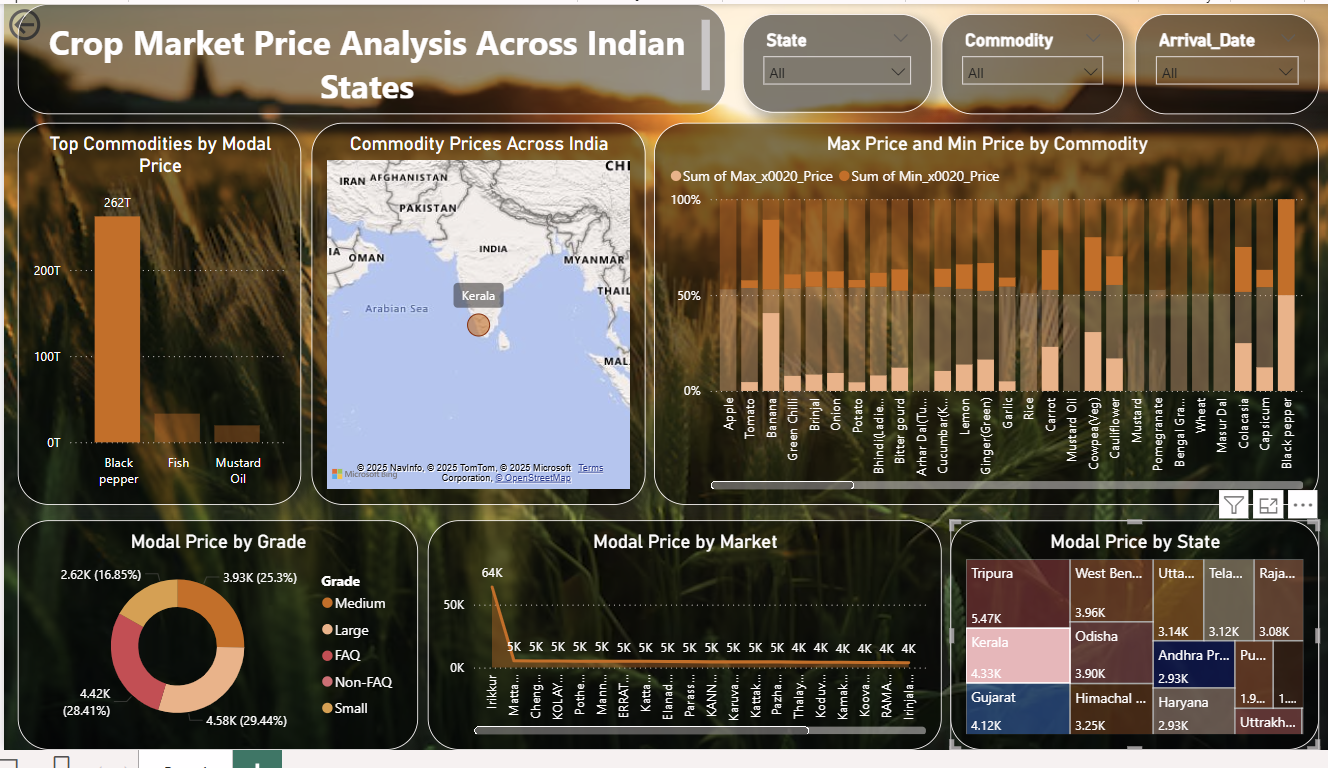

Layout of this report page (visuals, bound fields, positions):
{"tool":"powerbi","page":{"name":"Page 1","canvas":[1280,720],"ordinal":0},"visuals":[{"type":"columnChart","title":"Top Commodities by Modal Price","fields":{"Category":["Market Price.Commodity"],"Y":["Market Price.Total Modal Price"]},"box":[13.3,114.6,273.9,369.2],"z":0},{"type":"map","title":"Commodity Prices Across India","fields":{"Category":["Market Price.State"],"Size":["CountNonNull(Market Price.Modal_x0020_Price)"]},"box":[296.8,114.6,322.1,369.2],"z":1000},{"type":"hundredPercentStackedColumnChart","title":" Max Price and Min Price by Commodity","fields":{"Category":["Market Price.Commodity"],"Y":["Sum(Market Price.Max_x0020_Price)","Sum(Market Price.Min_x0020_Price)"]},"box":[627.3,114.6,641.8,369.2],"z":2000},{"type":"donutChart","title":"Modal Price by Grade","fields":{"Category":["Market Price.Grade"],"Y":["Market Price.Average Modal Price"]},"box":[13.3,498.3,386.1,222],"z":3000},{"type":"actionButton","box":[0,0,100,40],"z":4000},{"type":"lineChart","title":"Modal Price by Market ","fields":{"Category":["Market Price.Market"],"Y":["Market Price.Average Modal Price"]},"box":[409,498.3,495.8,222],"z":5000},{"type":"textbox","box":[13.3,0,682.8,106.2],"z":6000},{"type":"slicer","fields":{"Values":["Market Price.State"]},"box":[713,9.7,182.2,95.3],"z":7000},{"type":"treemap","title":"Modal Price by State ","fields":{"Values":["Market Price.Average Modal Price"],"Group":["Market Price.State"]},"box":[913.3,498.3,355.9,222],"z":8000},{"type":"slicer","fields":{"Values":["Market Price.Arrival_Date"]},"box":[1091.8,9.7,177.3,96.5],"z":9000},{"type":"slicer","fields":{"Values":["Market Price.Commodity"]},"box":[904.8,9.7,176.1,96.5],"z":10000}]}

Visuals, with their boxes in screenshot pixels (x1, y1, x2, y2), scaled from the page's 1280x720 canvas onto the 1328x768 screenshot:
"Top Commodities by Modal Price" columnChart: bbox=(14, 122, 298, 516)
"Commodity Prices Across India" map: bbox=(308, 122, 642, 516)
" Max Price and Min Price by Commodity" hundredPercentStackedColumnChart: bbox=(651, 122, 1317, 516)
"Modal Price by Grade" donutChart: bbox=(14, 532, 414, 767)
actionButton: bbox=(0, 0, 104, 43)
"Modal Price by Market " lineChart: bbox=(424, 532, 939, 767)
textbox: bbox=(14, 0, 722, 113)
slicer - Market Price.State: bbox=(740, 10, 929, 112)
"Modal Price by State " treemap: bbox=(948, 532, 1317, 767)
slicer - Market Price.Arrival_Date: bbox=(1133, 10, 1317, 113)
slicer - Market Price.Commodity: bbox=(939, 10, 1121, 113)
